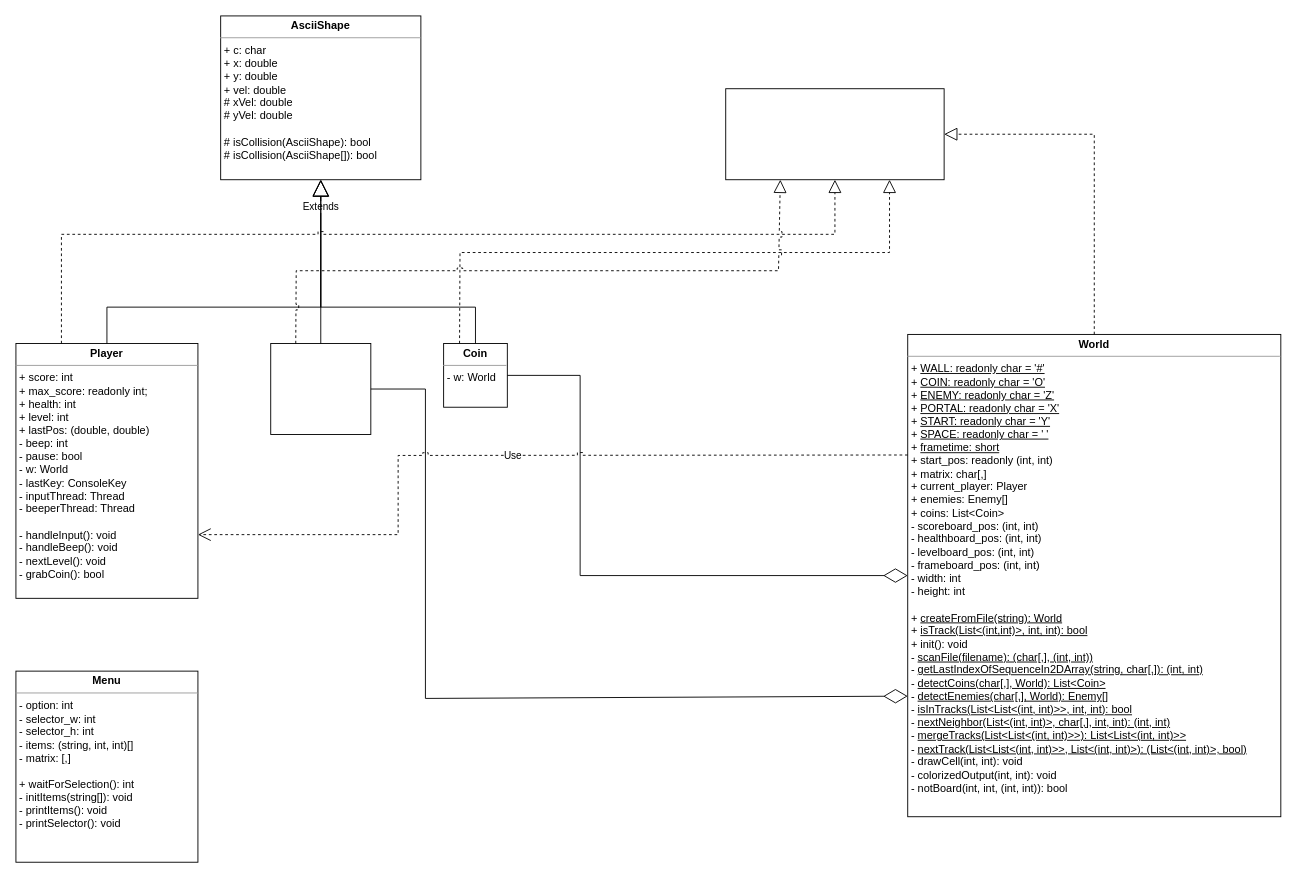
This 1297x878 diagram has some shape labels left out. The centre of each missing label's shape, as x and y in pixels:
<<Interface>> IRenderable + update(Type): void + render(Type, Type): void: (x=834, y=134)
Enemy - w: World - track: (int, int)[] - track_count: int: (x=320, y=389)
